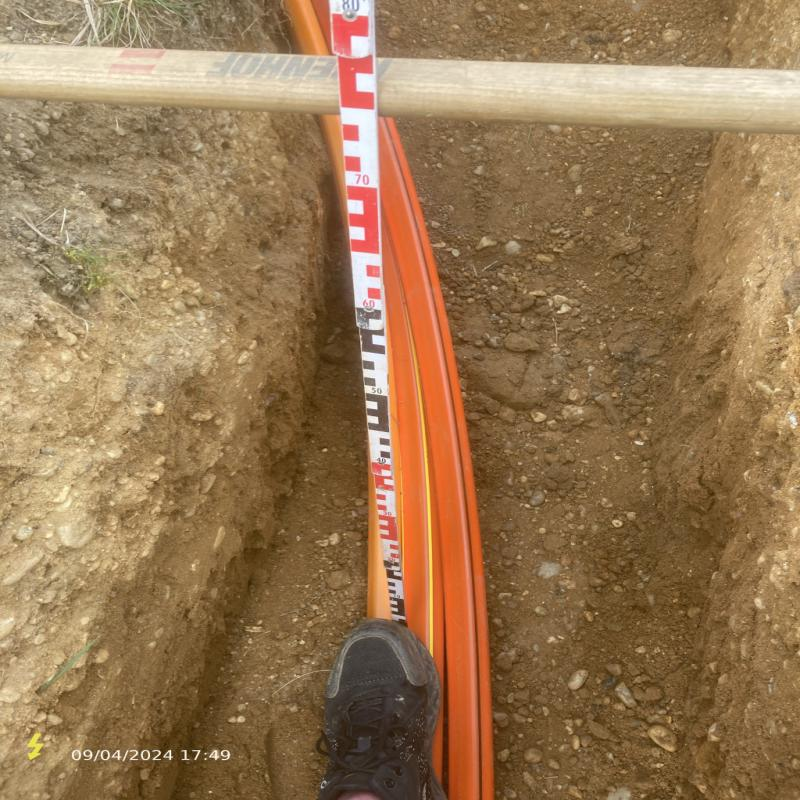Orang-Speednetrohrchen: (365, 117, 497, 796)
